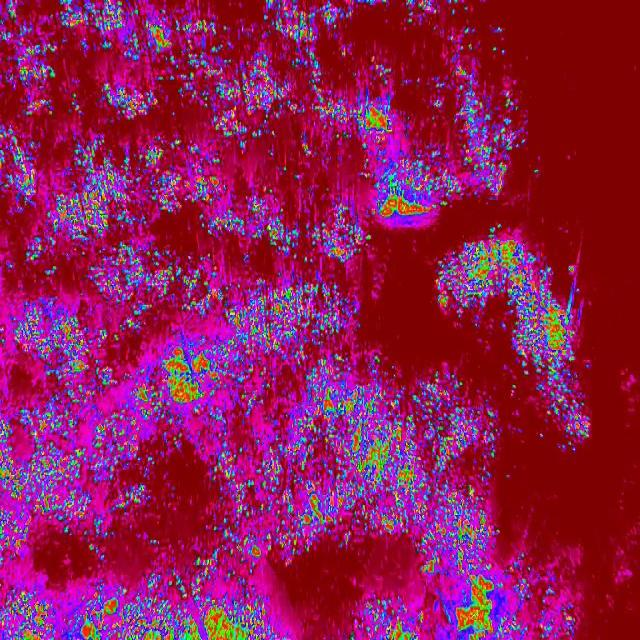fire: (0, 0, 286, 640), (285, 0, 530, 221), (288, 223, 374, 559), (376, 357, 511, 541), (434, 231, 584, 318), (355, 587, 580, 640), (508, 318, 592, 452), (416, 541, 526, 588)
